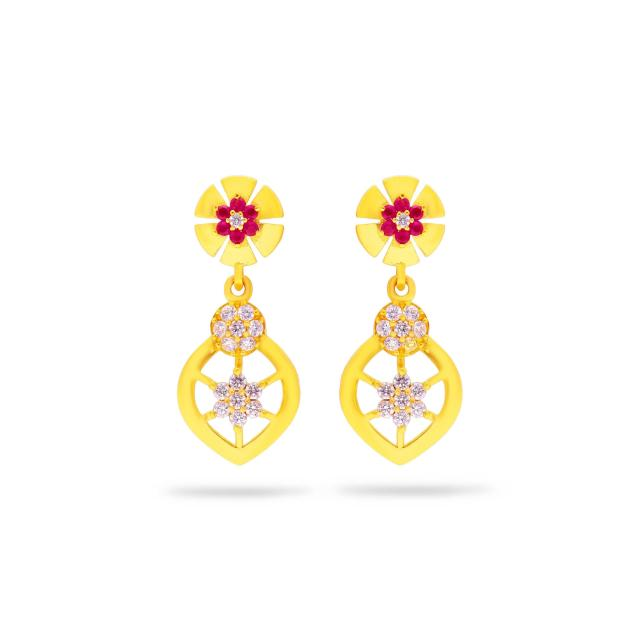missing gem: (402, 337, 418, 351)
